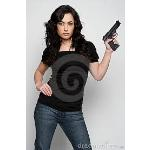Pistol: (102, 20, 120, 50)
